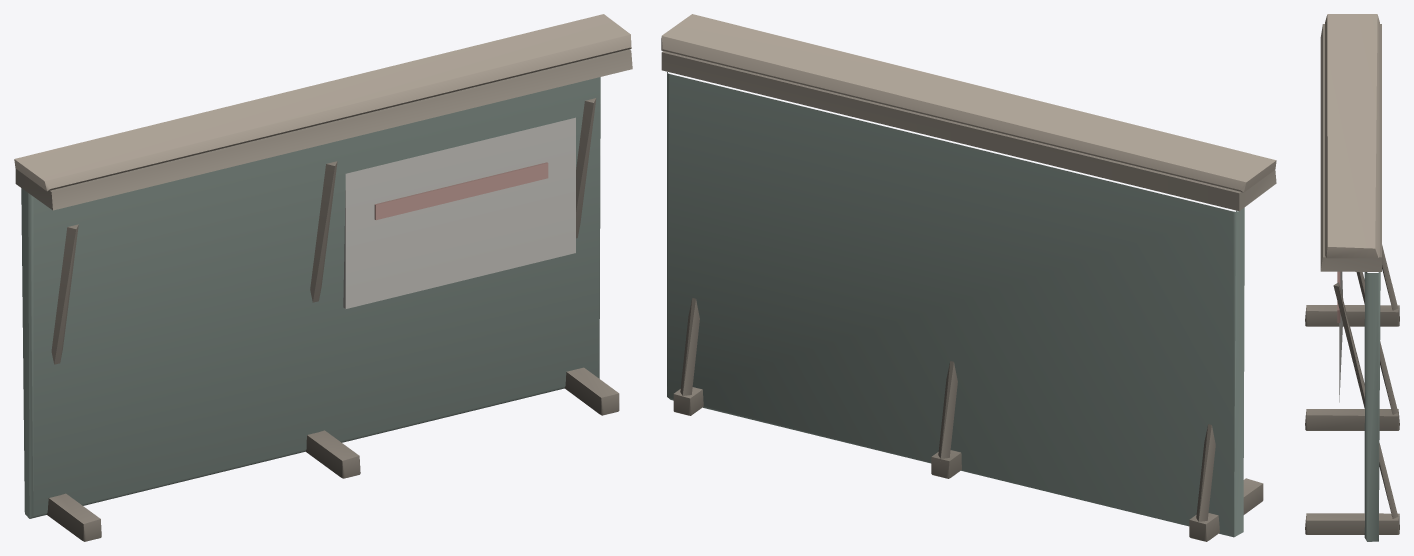
File: hoarding.lod1.glb
3 views of the same model, side by side, from view 1: azimuth 30°, elevation 25°; view 2: azimuth 150°, elevation 25°; view 3: azimuth 270°, elevation 25° (orthographic). The views are drawn at different scales.
Size of the model in its own units: 4.09 by 2.41 by 0.6932.
